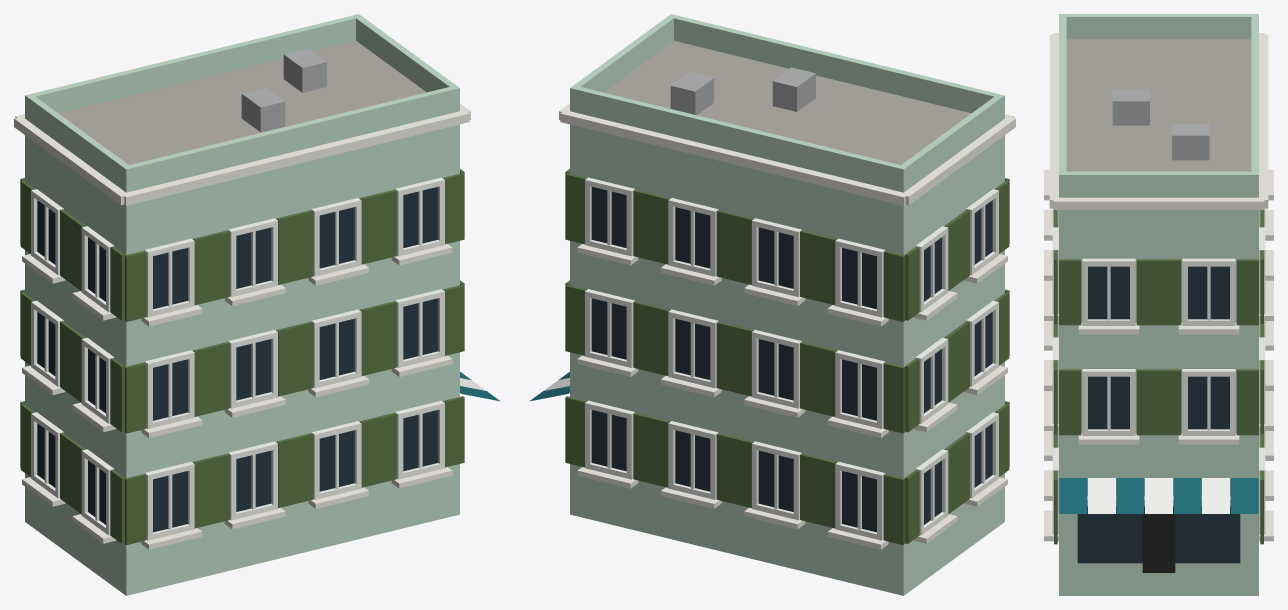
3 views of the same model, side by side, from view 1: azimuth 30°, elevation 25°; view 2: azimuth 150°, elevation 25°; view 3: azimuth 270°, elevation 25° (orthographic).
Parts seen in each view (by area): view 1: b9830; view 2: b9830; view 3: b9830.
Boxes of the visible parts, bbox=[...] form: b9830: bbox=[14, 14, 500, 595]; b9830: bbox=[529, 14, 1015, 595]; b9830: bbox=[1044, 14, 1273, 595].
Bounding box in the file's own units: 4730 × 4999 × 2457.
